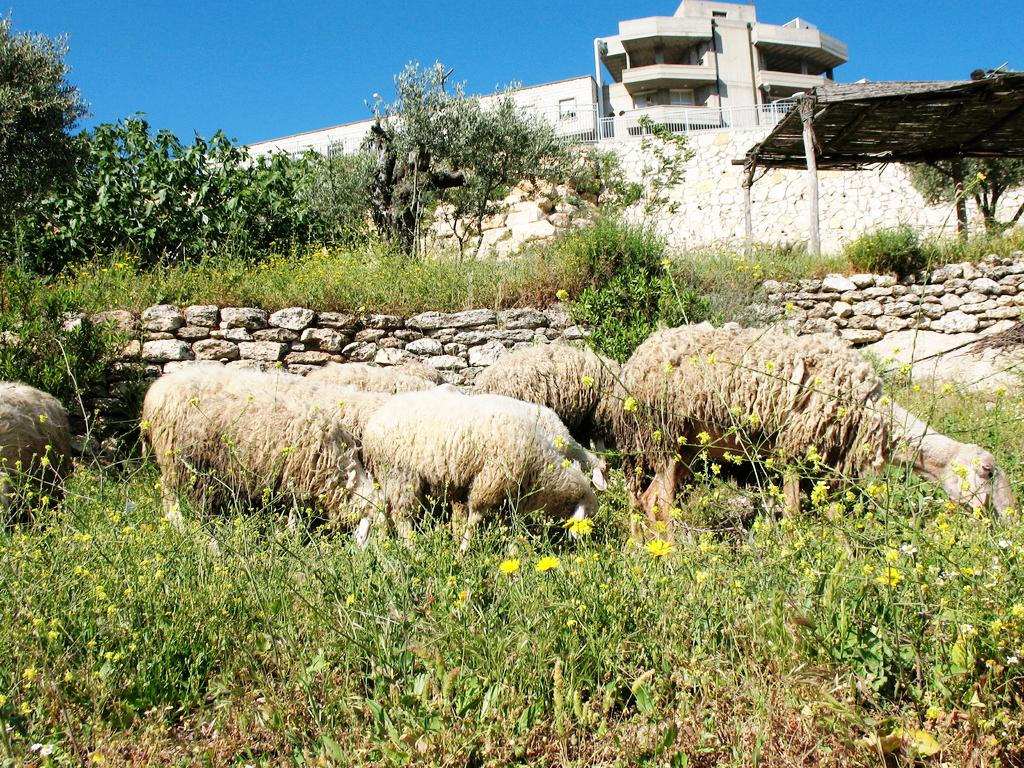Sheep: (622, 325, 1012, 535), (360, 385, 605, 532), (144, 367, 361, 511), (0, 381, 75, 547)
